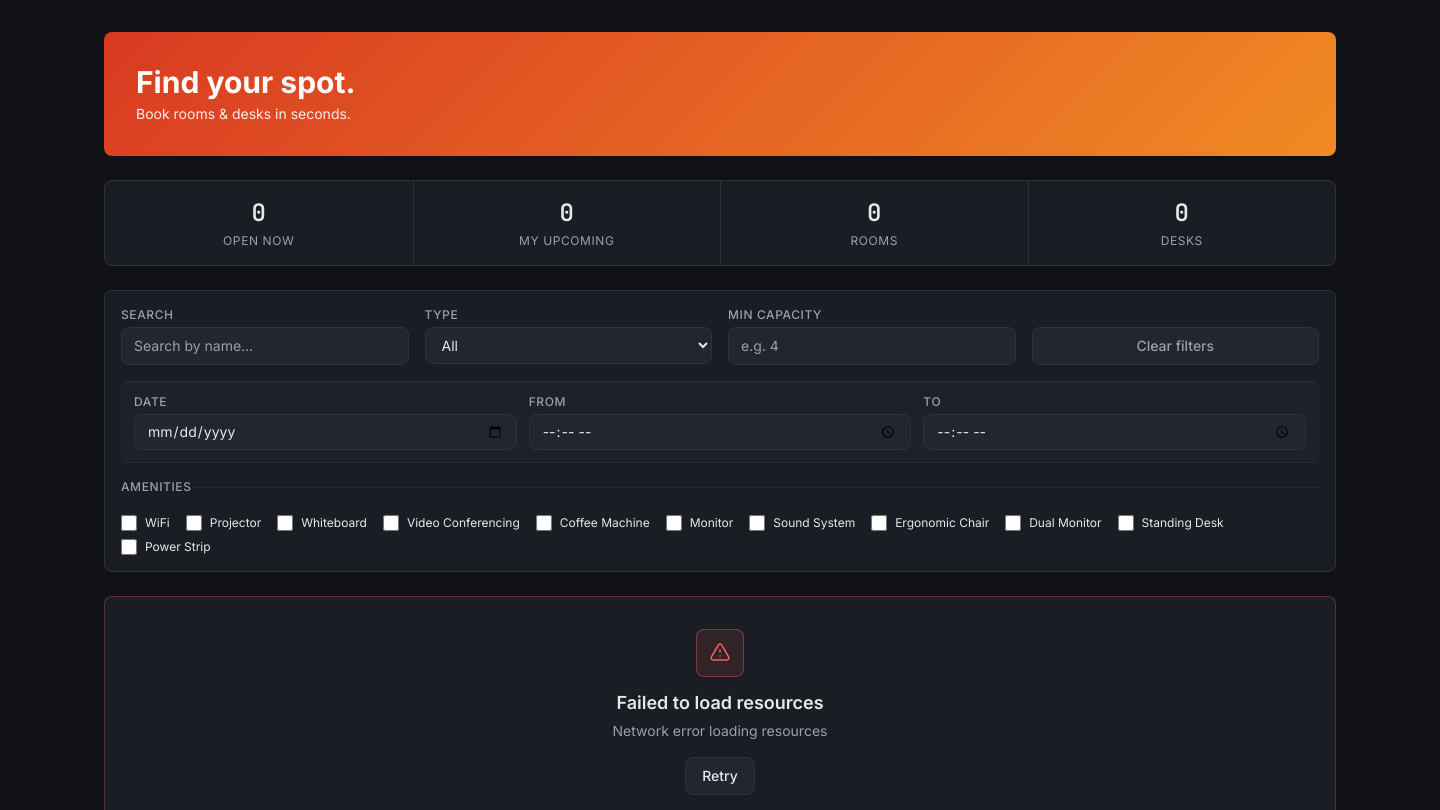
Test: Dashboard Page › shows error state with working Retry button when API fails
Expected: the text "Network error loading resources" is shown, [612,721,827,741]
Click the button "Retry" at (720, 776), box [685,757,755,795]
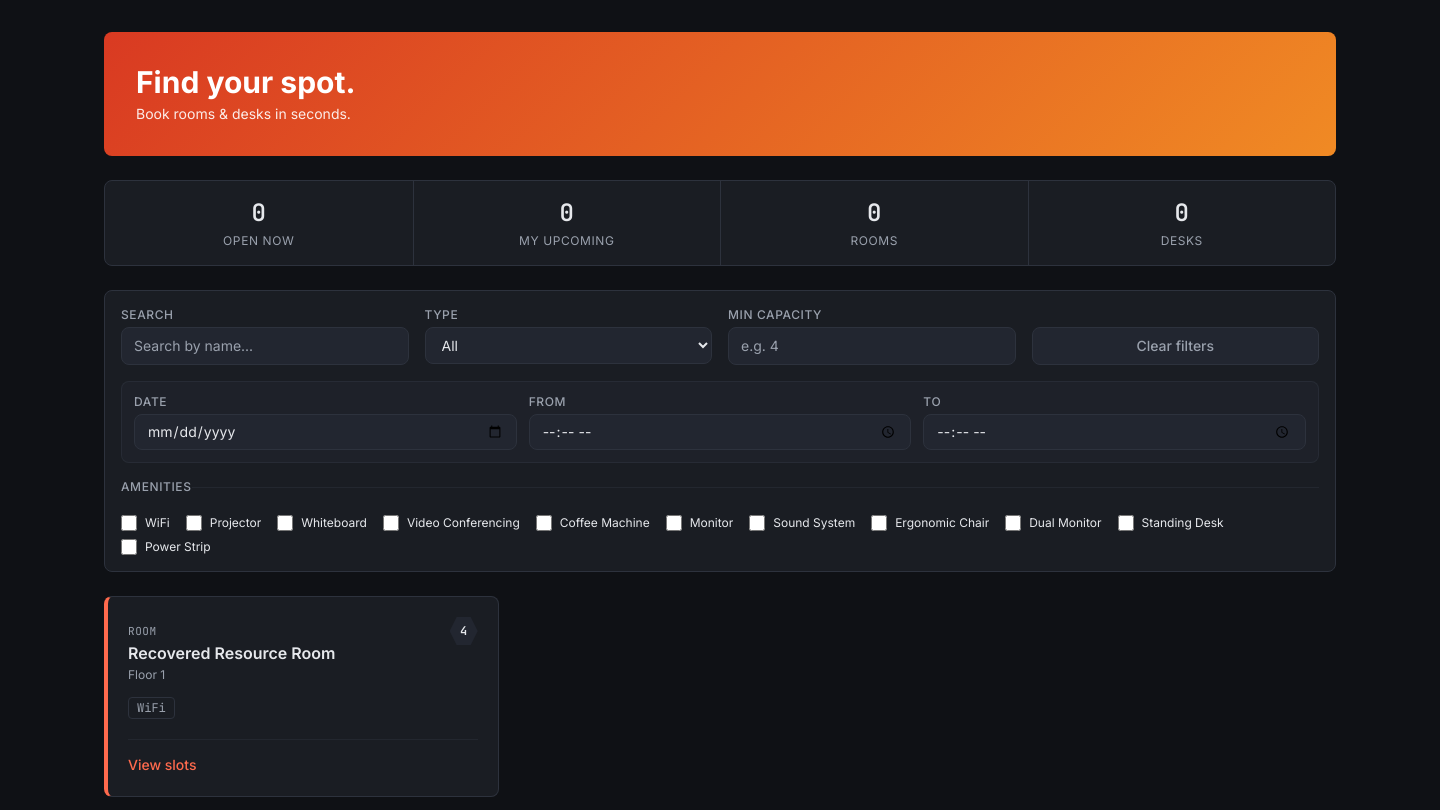
Expected: the heading "Recovered Resource Room" is shown, [128,643,336,663]
Expected: the text "Network error loading resources" is gone
